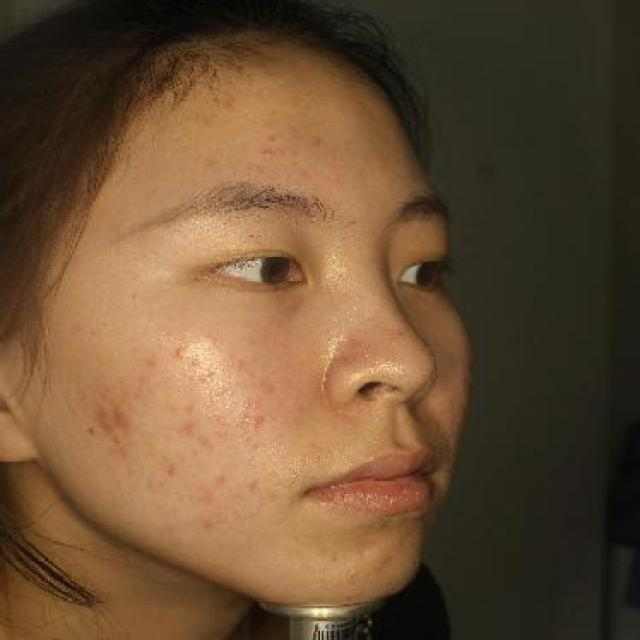dark spot: (87, 400, 132, 446)
whiteheads: (185, 354, 202, 372), (262, 130, 280, 144)
